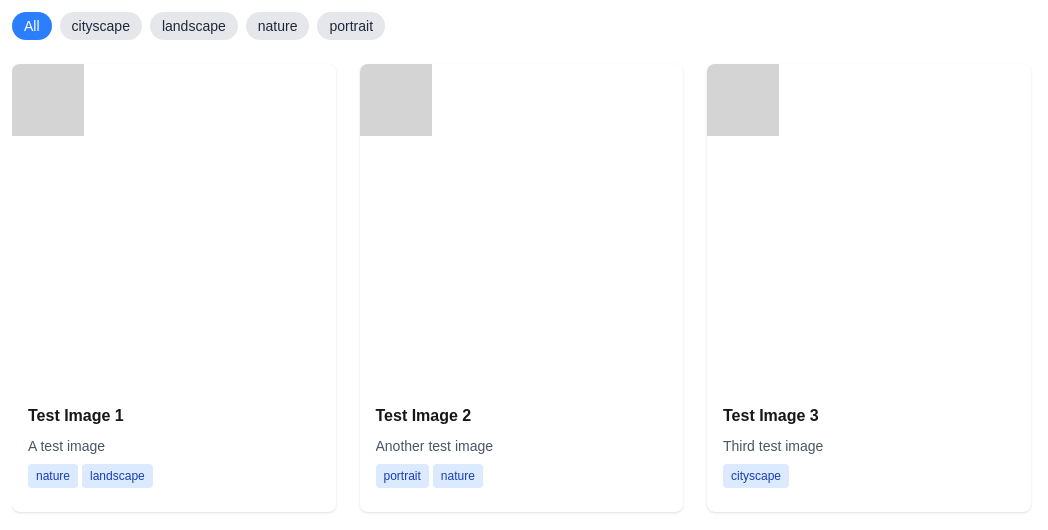
Test: ImageGrid › Tag Filtering › shows all images when "All" filter is selected
Expected: the heading "Test Image 1" is shown, [28,406,124,424]
# Filter by a specific tag first using data-testid
Click the button with test id "image-grid-tag-filter-portrait" at (351, 26), box [318,12,385,40]
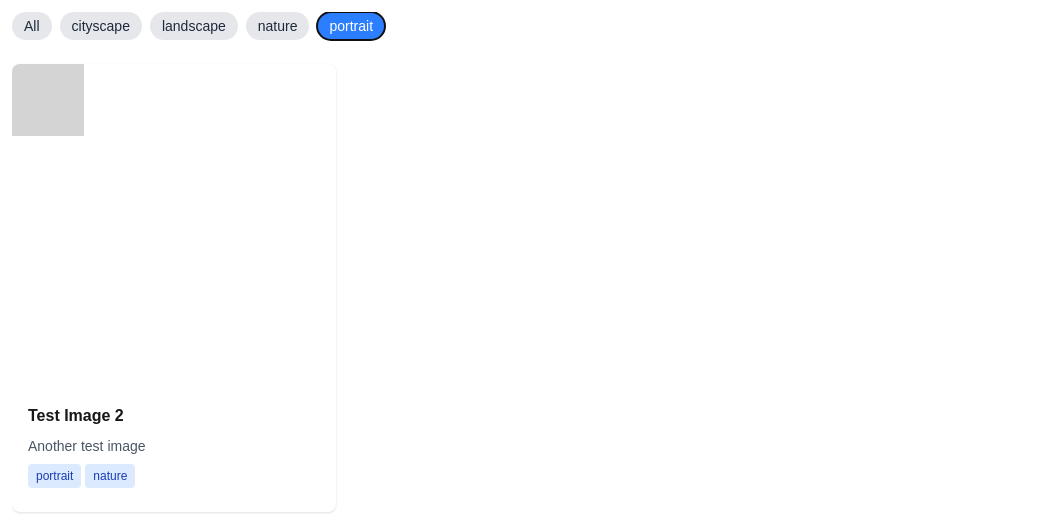
Result: the heading "Test Image 1" is gone
# Click "All" to show all images again
Click the button "All" at (32, 26), box [12,12,52,40]
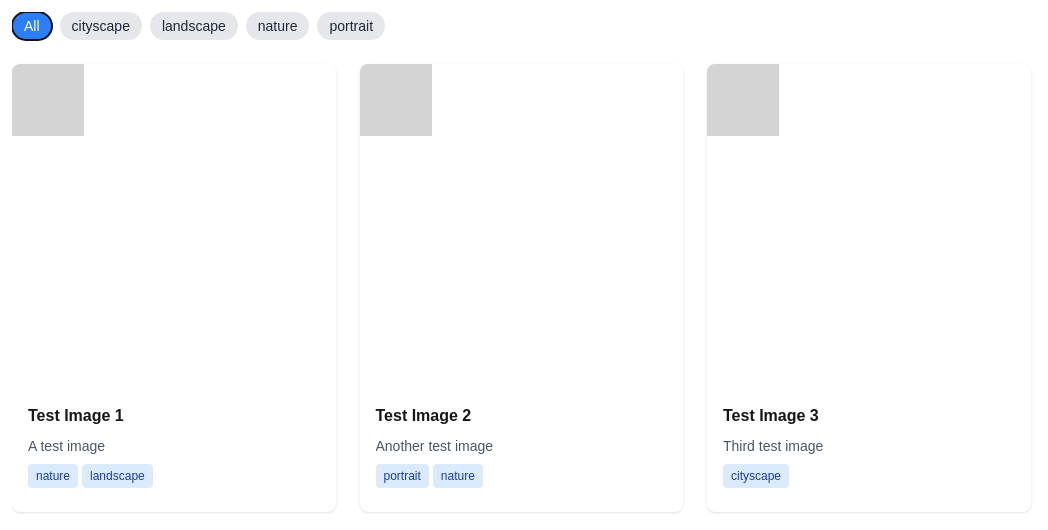
Expected: the heading "Test Image 2" is shown, [376,406,471,424]
Result: the heading "Test Image 1" is shown at [28,406,124,424]
Result: the heading "Test Image 3" is shown at [723,406,819,424]
